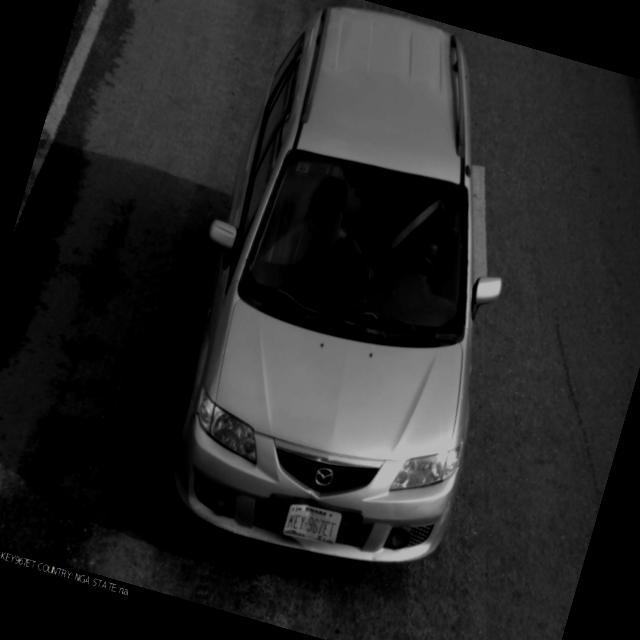windshield: (235, 145, 472, 350)
